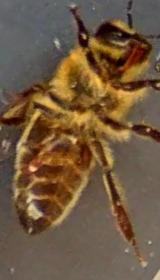varroa_mite: (26, 143, 50, 174)
